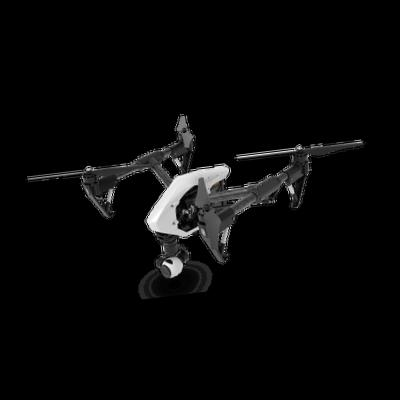drone: (24, 107, 385, 280)
